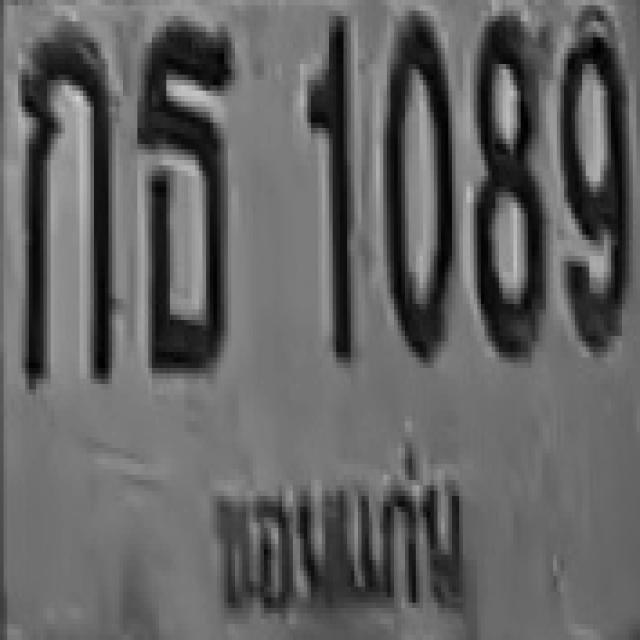0: (380, 8, 452, 355)
1: (304, 18, 351, 306)
10GorGai: (16, 24, 110, 381)
33ThorThong: (134, 18, 231, 370)
8: (472, 13, 544, 355)
9: (557, 21, 629, 352)
KhonKaen: (195, 431, 478, 621)
